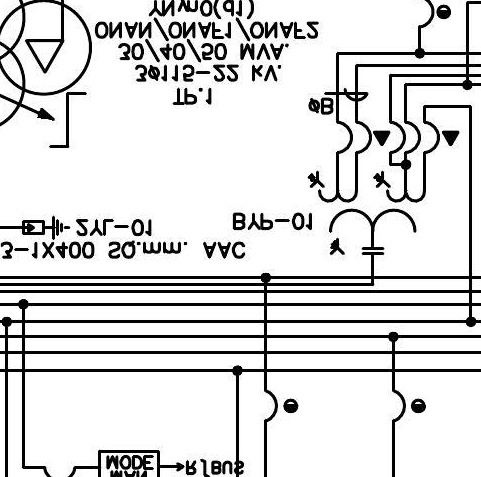115_cvt_3p: (307, 170, 427, 255)
115_la: (22, 215, 71, 241)
